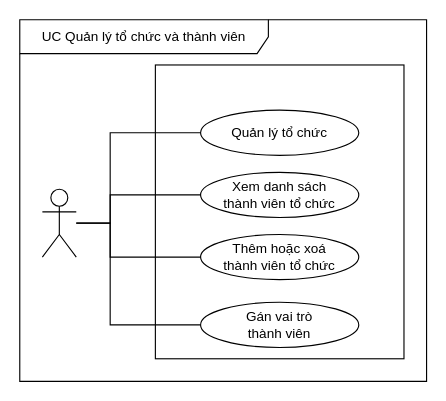
This 446x401 diagram has some shape labels left out. Each missing label, with the box of its shape:
Hệ thống: (154, 64, 404, 359)
Quản trị viên: (41, 188, 76, 257)
